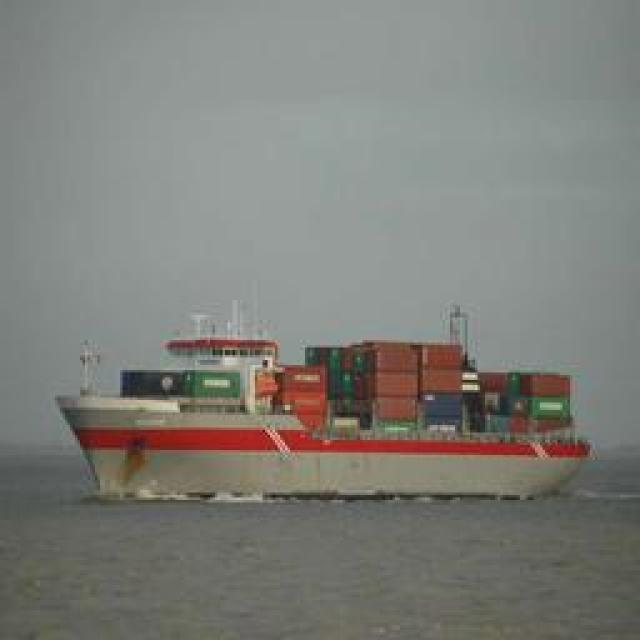CIV_Ship: (54, 310, 594, 510)
